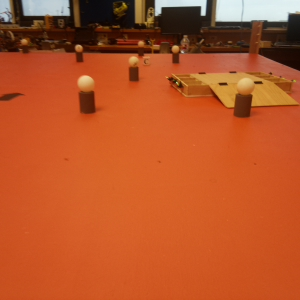blockC: (142, 57, 150, 66)
corner: (251, 21, 260, 50)
obstacle: (233, 79, 252, 116), (75, 75, 95, 110), (129, 57, 139, 82), (73, 44, 83, 62), (171, 46, 180, 63), (20, 39, 28, 53)
side: (164, 72, 209, 99)
slope: (211, 83, 296, 110)
start: (1, 88, 24, 106)
